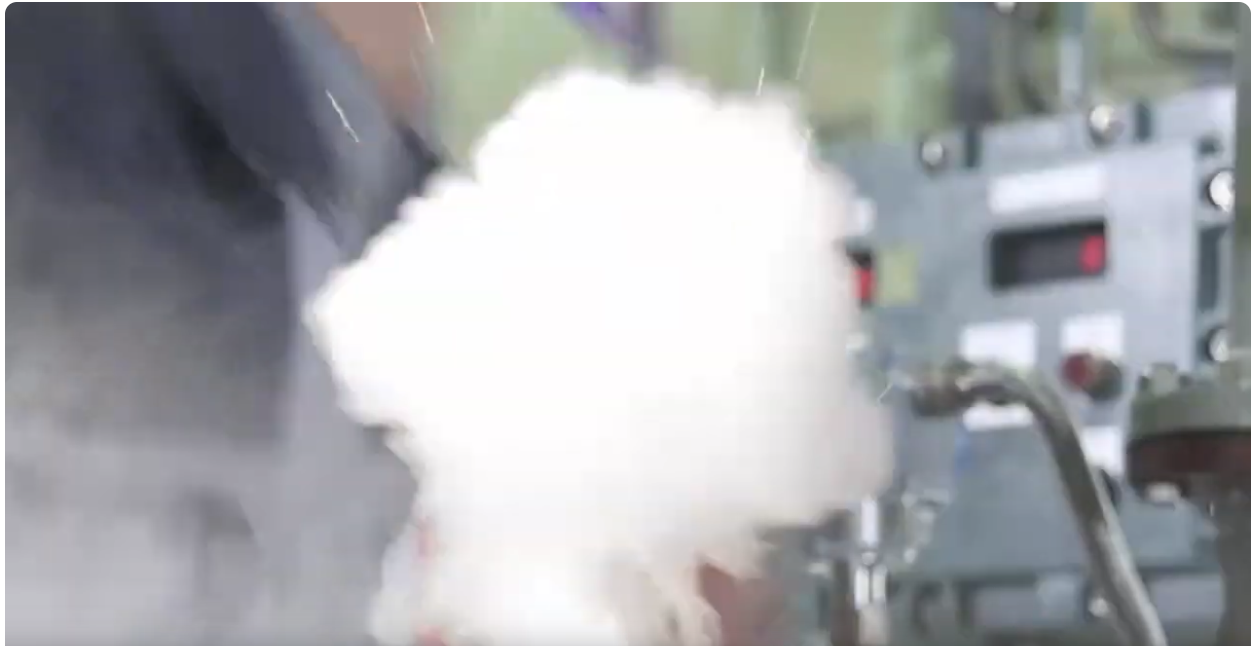smoke: (256, 40, 942, 646)
